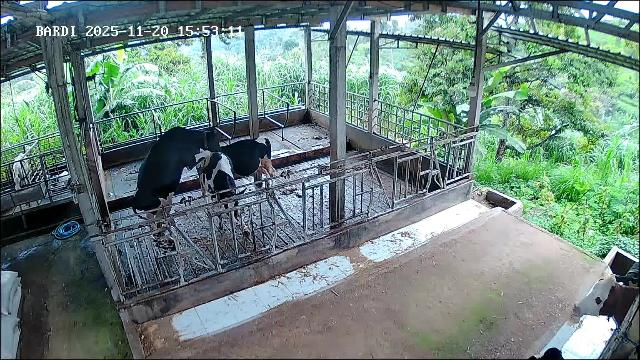mounting: (131, 127, 217, 243)
